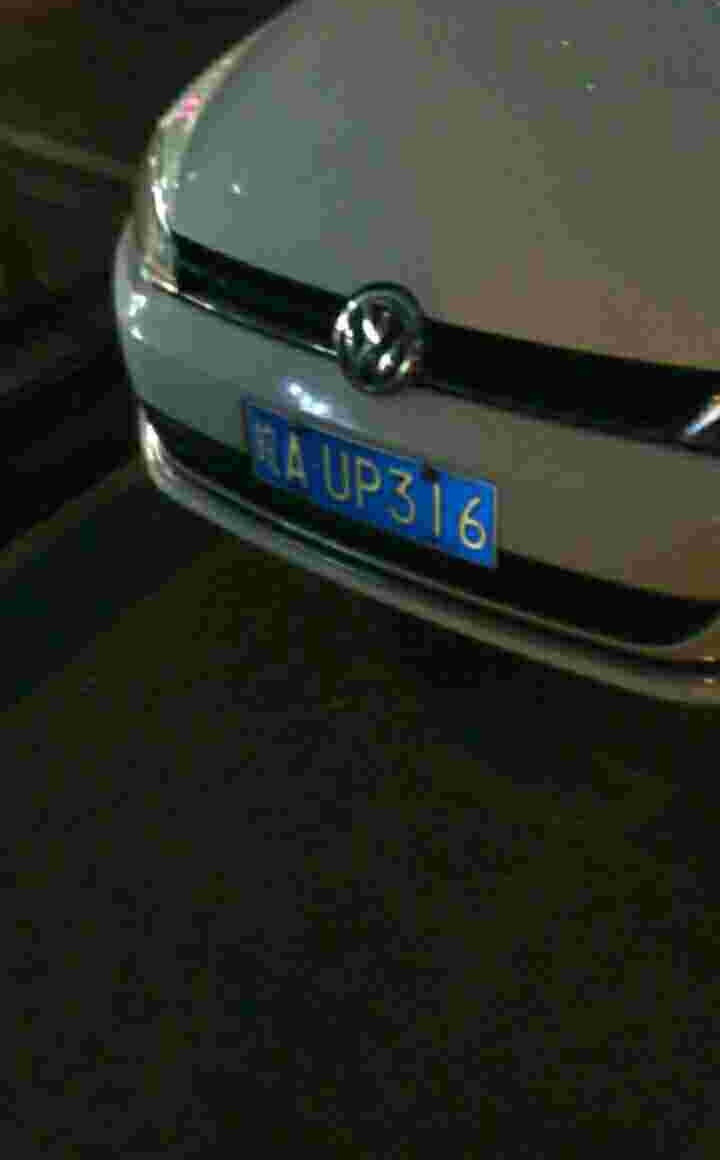license_plate: (236, 406, 505, 571)
